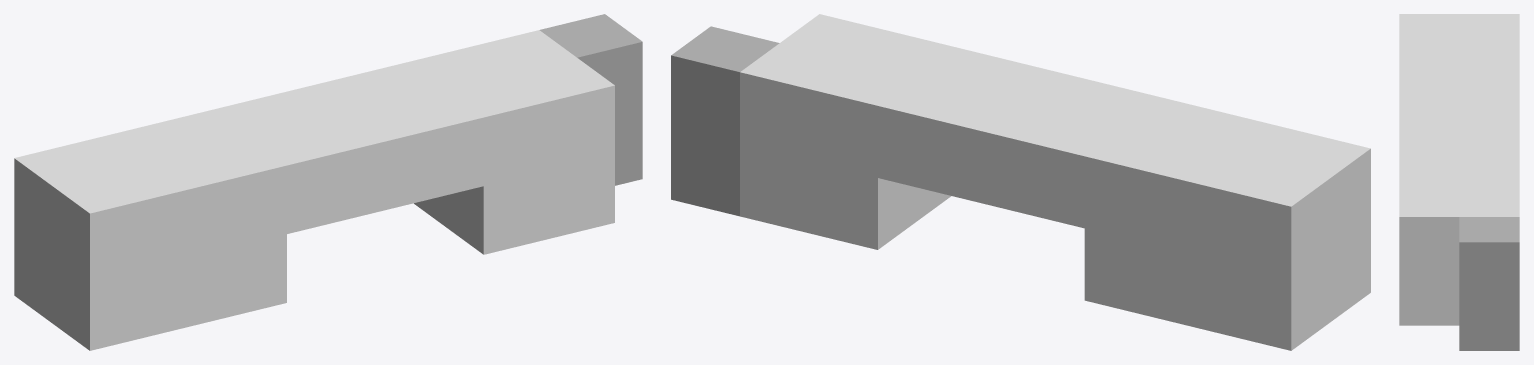
File: bear-3.obj
The picture shows the model from 3 angles, left to right: view 1: azimuth 30°, elevation 25°; view 2: azimuth 150°, elevation 25°; view 3: azimuth 270°, elevation 25°; orthographic projection. The views are drawn at different scales.
Bounding box in the file's own units: 0.9 × 0.2 × 0.2.
Materials: 1 (1 with a texture image).
